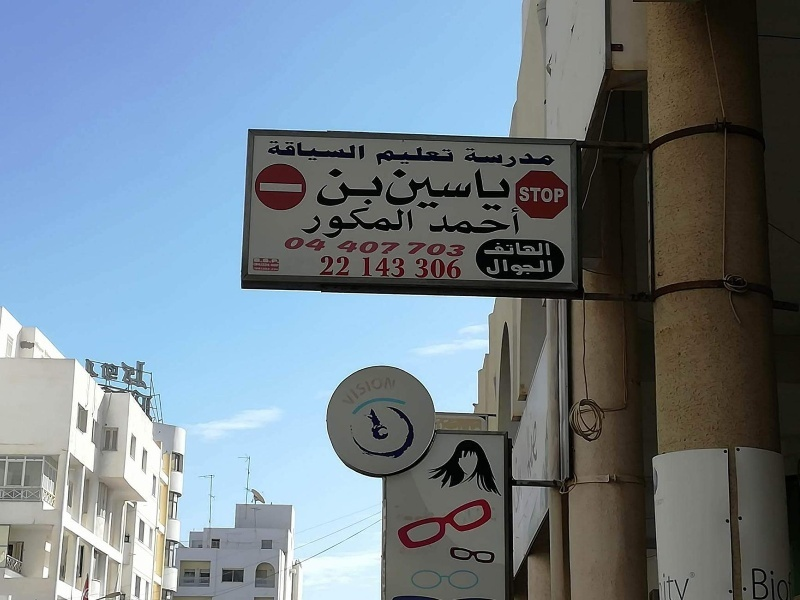text: (321, 167, 336, 214), (337, 167, 352, 214), (353, 167, 368, 214), (369, 167, 384, 214), (385, 167, 400, 214), (401, 167, 416, 214), (417, 167, 432, 214), (433, 167, 448, 214), (449, 167, 464, 214), (465, 167, 480, 214), (481, 167, 496, 214), (497, 167, 512, 214), (353, 372, 368, 410), (369, 372, 384, 410), (385, 372, 399, 410), (401, 206, 417, 239), (753, 565, 768, 600), (769, 565, 784, 600), (305, 206, 320, 239), (321, 206, 336, 239), (337, 206, 352, 239), (353, 206, 368, 239), (369, 206, 384, 239), (385, 206, 400, 239), (97, 358, 112, 391), (113, 358, 128, 391), (129, 358, 144, 391), (82, 358, 96, 391), (433, 207, 448, 237), (449, 207, 464, 237), (465, 207, 480, 237), (481, 207, 496, 237), (497, 207, 512, 237), (673, 572, 688, 600), (273, 139, 288, 163), (289, 139, 304, 163), (305, 139, 320, 163), (321, 139, 336, 163), (337, 139, 352, 163), (385, 145, 400, 168), (401, 145, 416, 168), (417, 145, 432, 168), (433, 145, 448, 168), (465, 146, 480, 169), (481, 146, 496, 169), (497, 146, 512, 169), (513, 146, 528, 169), (529, 146, 544, 169), (337, 256, 353, 277), (353, 139, 367, 163), (369, 256, 384, 278), (385, 256, 400, 278), (321, 256, 336, 277), (417, 258, 432, 279), (433, 258, 448, 279), (545, 146, 558, 169), (449, 258, 463, 279), (662, 572, 672, 600), (417, 241, 432, 258), (433, 241, 448, 258), (449, 241, 464, 258), (529, 187, 544, 204), (545, 187, 560, 204), (497, 259, 512, 276), (513, 259, 528, 276), (529, 259, 544, 276), (337, 239, 352, 255), (353, 239, 368, 255), (369, 239, 384, 255), (385, 239, 400, 255), (289, 237, 304, 253), (305, 237, 320, 253), (497, 242, 512, 257), (513, 242, 528, 257), (529, 242, 544, 257), (513, 207, 520, 237), (347, 372, 352, 410), (316, 167, 320, 214), (485, 259, 496, 276), (376, 145, 384, 168), (484, 242, 496, 257), (785, 565, 790, 600), (265, 139, 272, 163), (145, 358, 150, 391), (401, 256, 408, 278), (407, 241, 416, 258), (519, 187, 528, 204), (545, 259, 554, 276), (300, 206, 304, 239), (362, 256, 368, 278), (449, 145, 454, 168), (321, 237, 328, 253), (749, 565, 752, 600), (429, 207, 432, 237), (545, 242, 551, 257), (257, 258, 272, 264), (657, 498, 666, 507), (283, 237, 288, 253), (461, 146, 464, 169), (561, 187, 565, 204), (257, 267, 272, 271), (257, 264, 272, 267), (414, 258, 416, 279), (273, 258, 278, 264), (689, 572, 690, 600), (273, 267, 279, 271), (273, 264, 280, 267), (654, 498, 656, 507), (465, 241, 466, 258), (335, 239, 336, 255), (254, 258, 256, 264), (252, 264, 256, 267), (253, 267, 256, 271)
